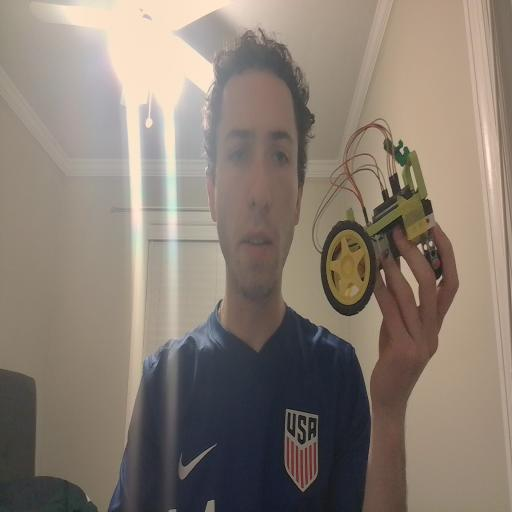green LEGO minifig: (382, 135, 411, 168)
